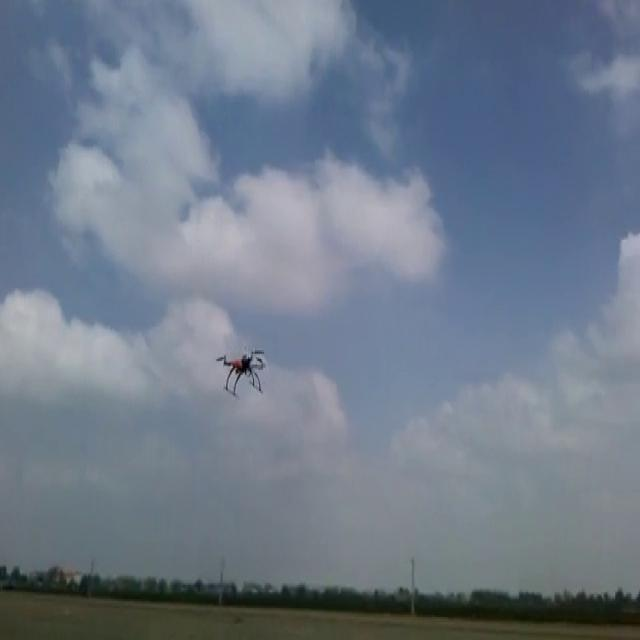drone: (217, 343, 266, 398)
